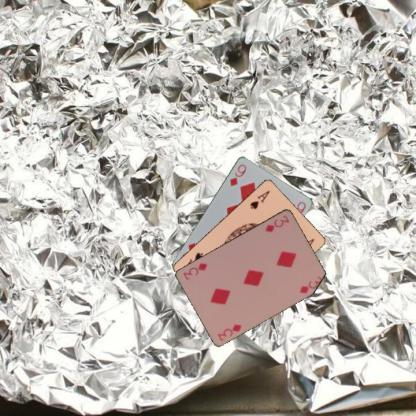3d: (263, 212, 291, 233), (215, 321, 243, 342)
9d: (227, 161, 247, 188)
As: (247, 188, 271, 210)
